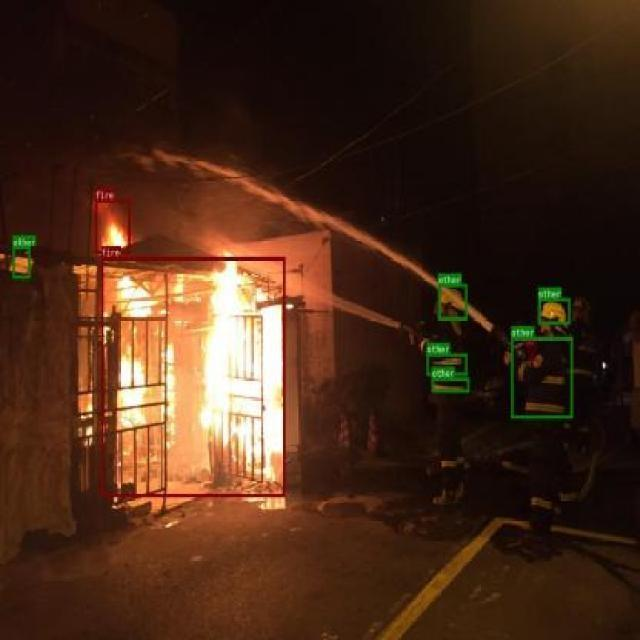fire: (101, 256, 286, 496), (95, 199, 131, 253)
